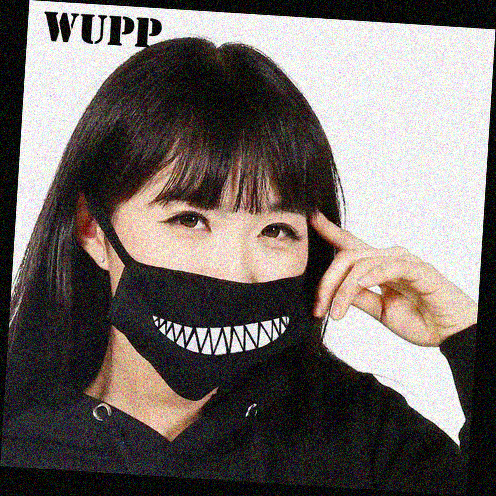with_mask: (105, 188, 310, 397)
